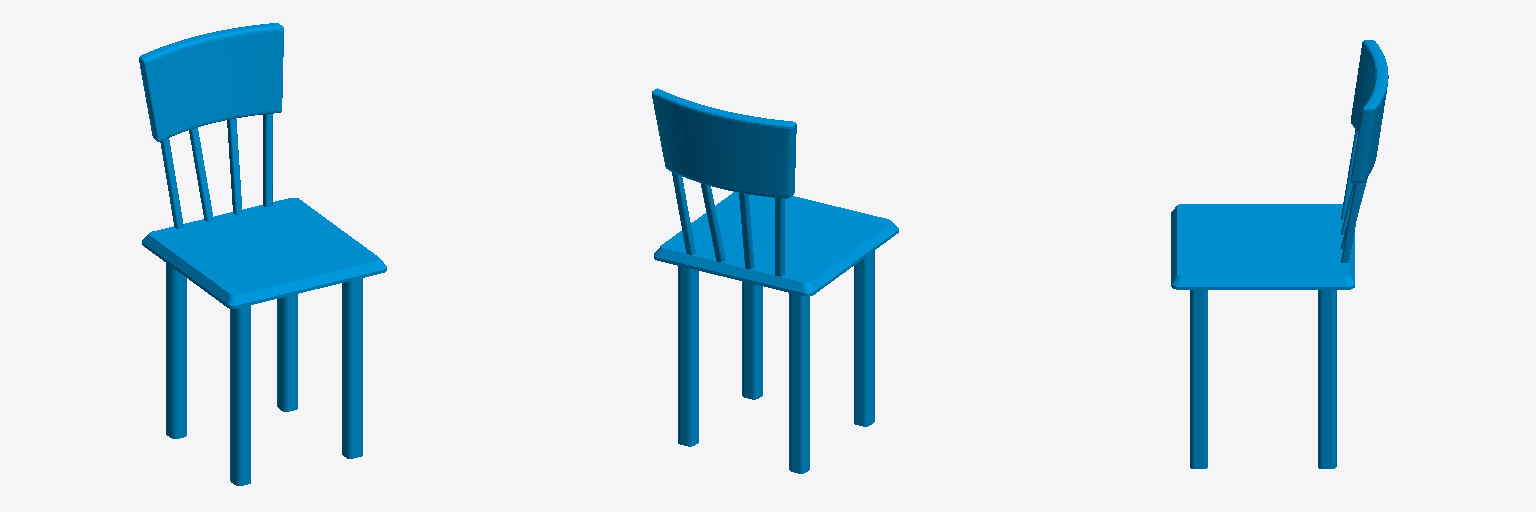
File: chair03.obj
3 renders of one model, left to right at view 1: azimuth 30°, elevation 25°; view 2: azimuth 150°, elevation 25°; view 3: azimuth 270°, elevation 25°, orthographic.
Parts seen in each view (by area): view 1: Object.1; view 2: Object.1; view 3: Object.1.
Part boxes in pixels (x1,y1,x2,y2): Object.1: (139, 23, 386, 485); Object.1: (652, 88, 898, 473); Object.1: (1171, 40, 1388, 468).
Size of the model in its own units: 451 by 990 by 534.